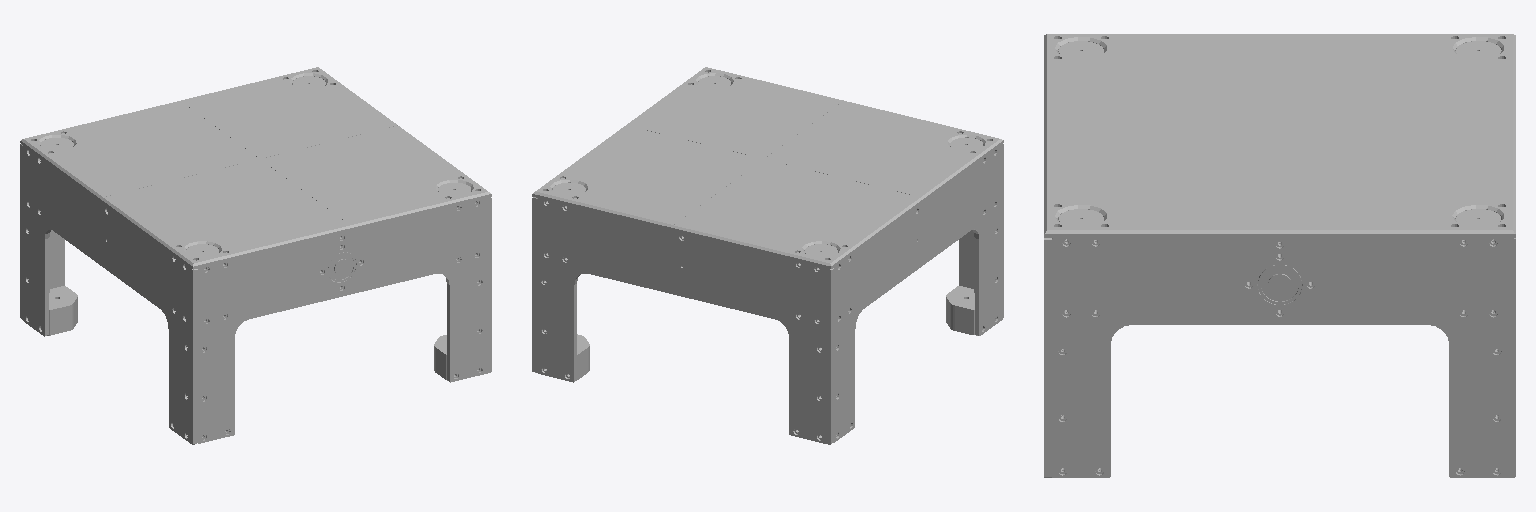
URDF robot description (block):
<?xml version="1.0" ?>
<!-- =================================================================================== -->
<!-- |    This document was autogenerated by xacro from block.urdf.xacro               | -->
<!-- |    EDITING THIS FILE BY HAND IS NOT RECOMMENDED                                 | -->
<!-- =================================================================================== -->
<!-- This URDF was automatically created by SolidWorks to URDF Exporter! Originally created by [author] ([email redacted])
     Commit Version: 1.6.0-1-g15f4949  Build Version: 1.6.7594.29634
     For more information, please see http://wiki.ros.org/sw_urdf_exporter -->
<robot name="block">
  <link name="top_link">
    <inertial>
      <origin rpy="0 0 0" xyz="0 0 0"/>
      <mass value="0.5"/>
      <inertia ixx="1e-3" ixy="0" ixz="0" iyy="1e-3" iyz="0" izz="1e-3"/>
    </inertial>
    <visual>
      <origin rpy="0 0 0" xyz="0 0 0.037000000000000005"/>
      <geometry>
        <mesh filename="package://block/meshes/base_link.STL"/>
      </geometry>
      <material name="">
        <color rgba="0.752941176470588 0.752941176470588 0.752941176470588 1"/>
      </material>
    </visual>
    <collision>
      <origin rpy="0 0 0" xyz="0 0 0.004"/>
      <geometry>
        <box size="0.32 0.32 0.07200000000000001"/>
      </geometry>
    </collision>
  </link>
  <link name="rear_left_leg_link">
    <collision>
      <origin rpy="0 0 0" xyz="0 0 0"/>
      <geometry>
        <box size="0.025 0.025 0.115"/>
      </geometry>
    </collision>
    <inertial>
      <origin rpy="0 0 0" xyz="0 0 0"/>
      <mass value="0.001"/>
      <inertia ixx="1e-3" ixy="0" ixz="0" iyy="1e-3" iyz="0" izz="1e-3"/>
    </inertial>
  </link>
  <joint name="rear_left_leg" type="fixed">
    <parent link="top_link"/>
    <child link="rear_left_leg_link"/>
    <origin rpy="0 0 0" xyz="-0.1475 -0.1475 -0.0925"/>
  </joint>
  <link name="rear_right_leg_link">
    <collision>
      <origin rpy="0 0 0" xyz="0 0 0"/>
      <geometry>
        <box size="0.025 0.025 0.115"/>
      </geometry>
    </collision>
    <inertial>
      <origin rpy="0 0 0" xyz="0 0 0"/>
      <mass value="0.001"/>
      <inertia ixx="1e-3" ixy="0" ixz="0" iyy="1e-3" iyz="0" izz="1e-3"/>
    </inertial>
  </link>
  <joint name="rear_right_leg" type="fixed">
    <parent link="top_link"/>
    <child link="rear_right_leg_link"/>
    <origin rpy="0 0 0" xyz="-0.1475 0.1475 -0.0925"/>
  </joint>
  <link name="front_left_leg_link">
    <collision>
      <origin rpy="0 0 0" xyz="0 0 0"/>
      <geometry>
        <box size="0.025 0.025 0.115"/>
      </geometry>
    </collision>
    <inertial>
      <origin rpy="0 0 0" xyz="0 0 0"/>
      <mass value="0.001"/>
      <inertia ixx="1e-3" ixy="0" ixz="0" iyy="1e-3" iyz="0" izz="1e-3"/>
    </inertial>
  </link>
  <joint name="front_left_leg" type="fixed">
    <parent link="top_link"/>
    <child link="front_left_leg_link"/>
    <origin rpy="0 0 0" xyz="0.1475 -0.1475 -0.0925"/>
  </joint>
  <link name="front_right_leg_link">
    <collision>
      <origin rpy="0 0 0" xyz="0 0 0"/>
      <geometry>
        <box size="0.025 0.025 0.115"/>
      </geometry>
    </collision>
    <inertial>
      <origin rpy="0 0 0" xyz="0 0 0"/>
      <mass value="0.001"/>
      <inertia ixx="1e-3" ixy="0" ixz="0" iyy="1e-3" iyz="0" izz="1e-3"/>
    </inertial>
  </link>
  <joint name="front_right_leg" type="fixed">
    <parent link="top_link"/>
    <child link="front_right_leg_link"/>
    <origin rpy="0 0 0" xyz="0.1475 0.1475 -0.0925"/>
  </joint>
  <link name="base_link">
  </link>
  <joint name="floor_joint" type="fixed">
    <origin rpy="0 0 0" xyz="0 0 0.1505"/>
    <parent link="base_link"/>
    <child link="top_link"/>
  </joint>
</robot>

--- Render facts (derived) ---
3 views of the same robot in one strip: view 1: azimuth 30°, elevation 25°; view 2: azimuth 150°, elevation 25°; view 3: azimuth 270°, elevation 25° (orthographic).
Model block with 6 links and 5 joints (5 fixed), rooted at base_link, posed every joint at zero.
Visible links, largest first — view 1: top_link; view 2: top_link; view 3: top_link.
Link boxes in pixels (x1,y1,x2,y2): top_link: (20, 67, 491, 444); top_link: (532, 67, 1003, 444); top_link: (1044, 34, 1515, 477).
Bounding box of the posed robot: 0.32 × 0.32 × 0.187 m (x, y, z).
1 mesh visuals loaded from 1 distinct referenced files (1 binary STL).
